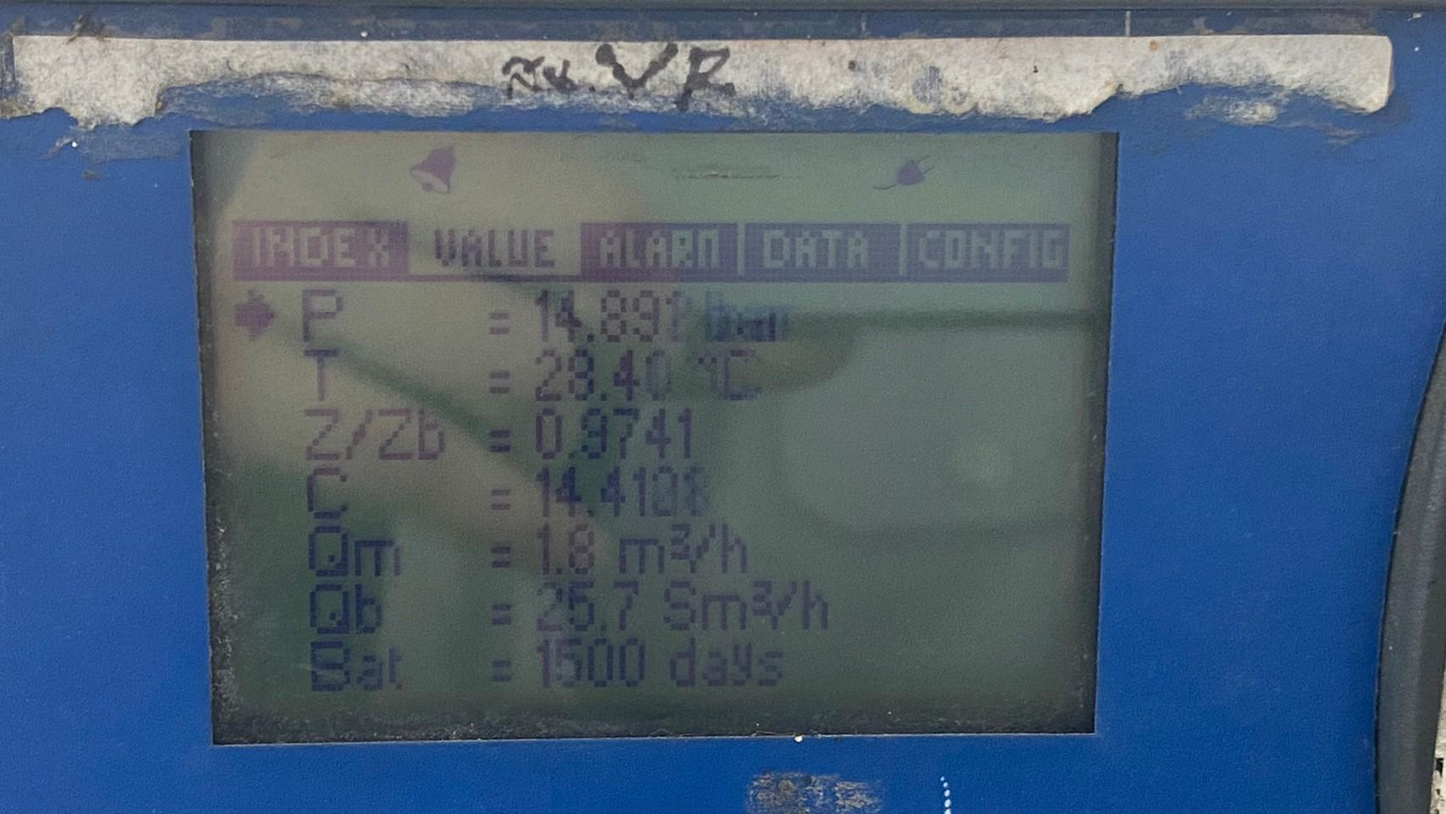digital_screen: (191, 131, 1122, 744)
